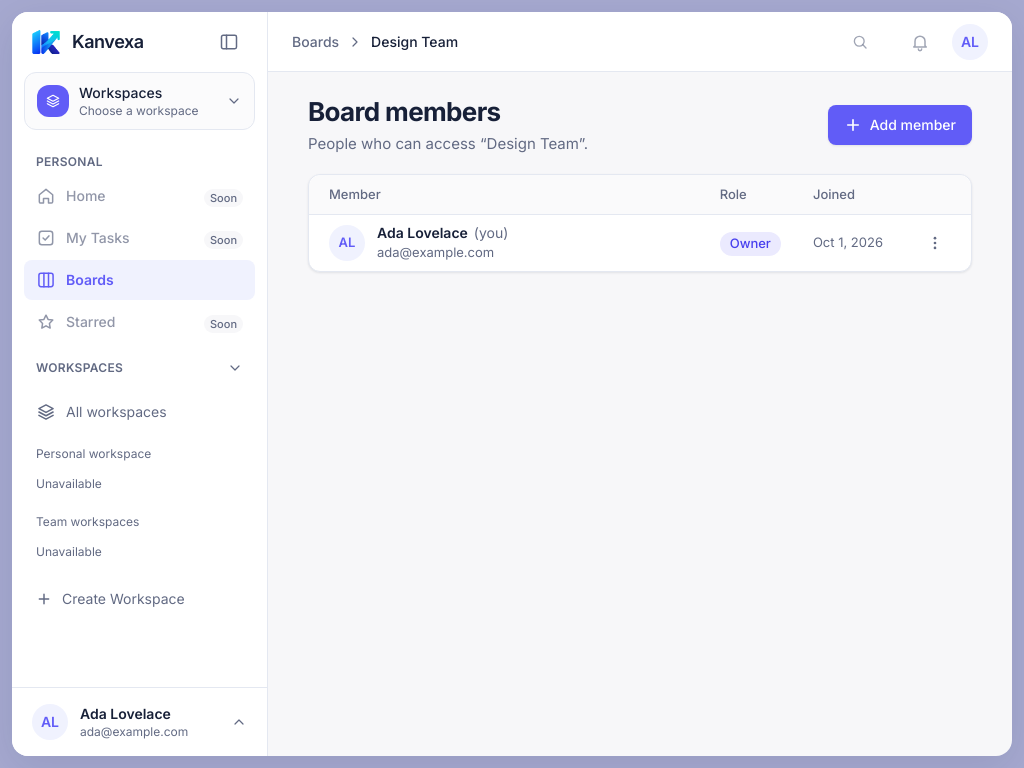
BoardMembersPage (as OWNER) › explains a 404 when adding
Click the button "Add member" at (900, 125), box 828,105 -> 972,145
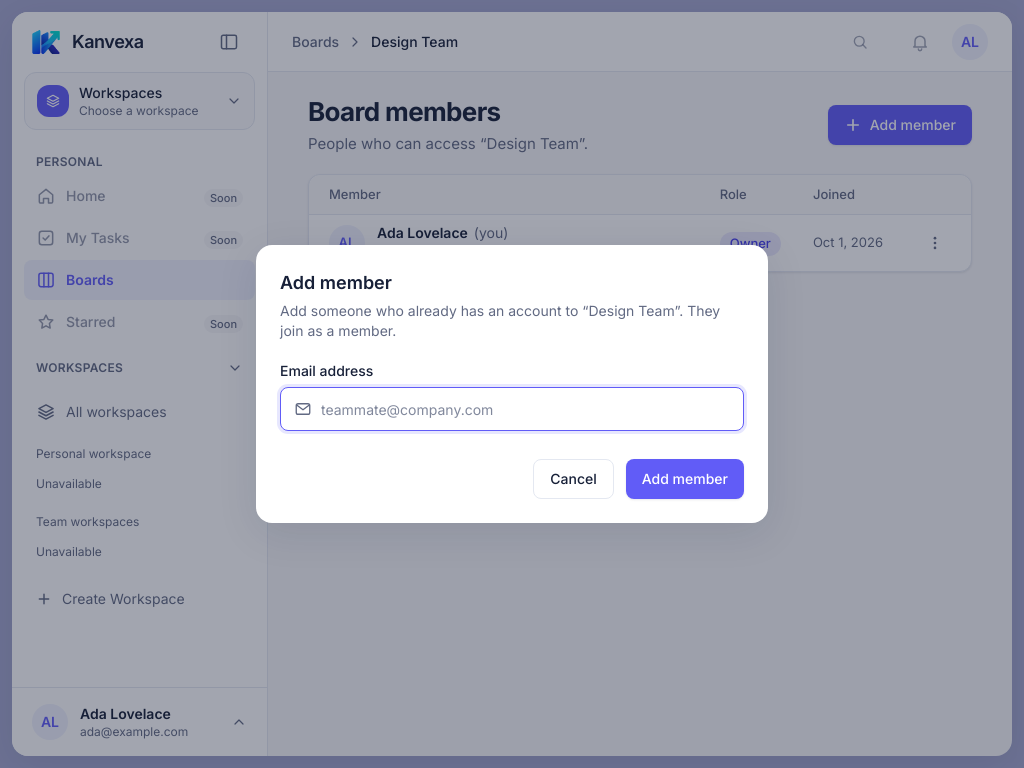
Type "someone@example.com" into the field labelled "Email address" at (512, 409), box 280,387 -> 744,431
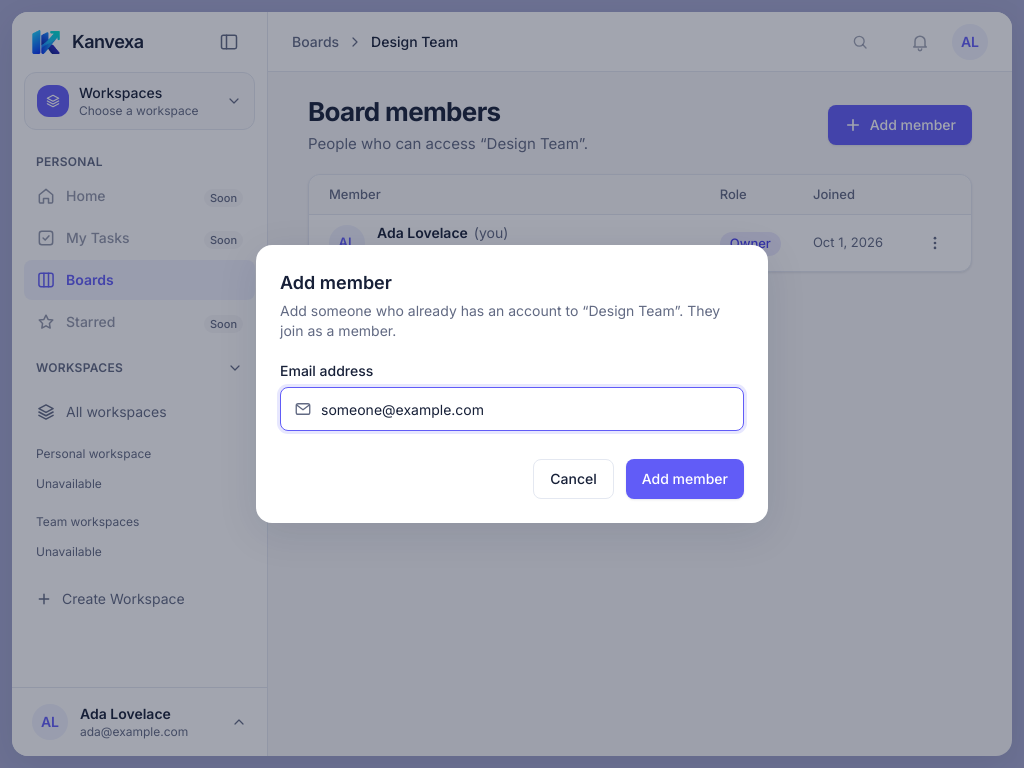
Click the button "Add member" at (685, 479), box 626,459 -> 744,499
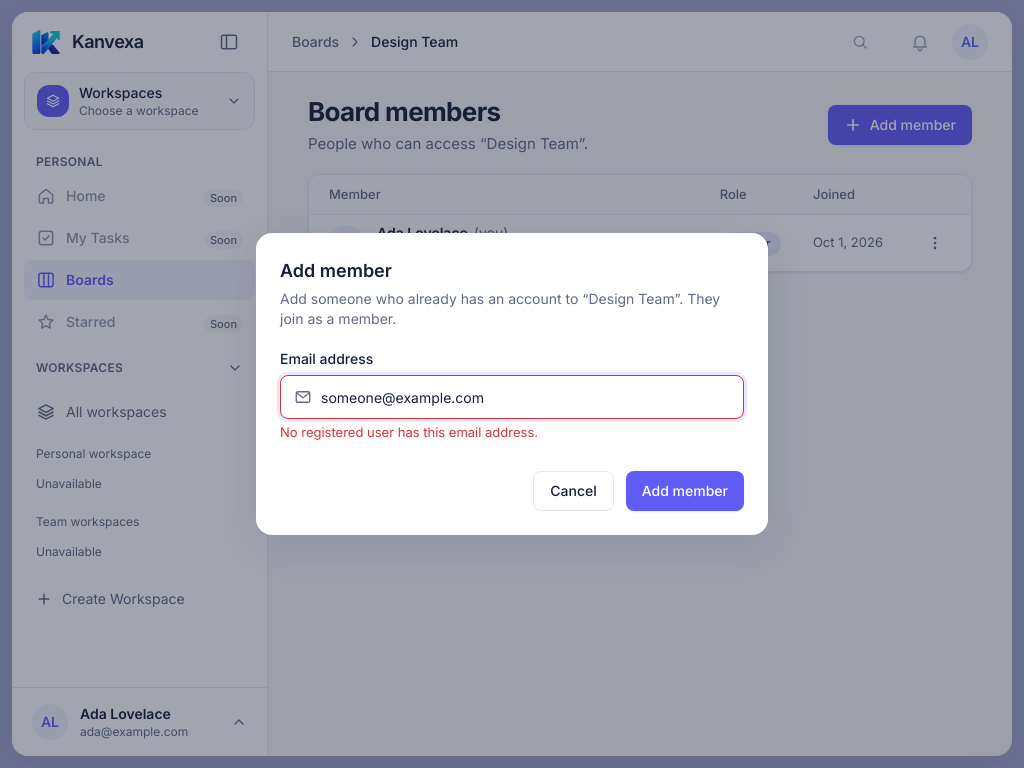
Result: the text "No registered user has this email address." is shown at 280,424 -> 538,440
